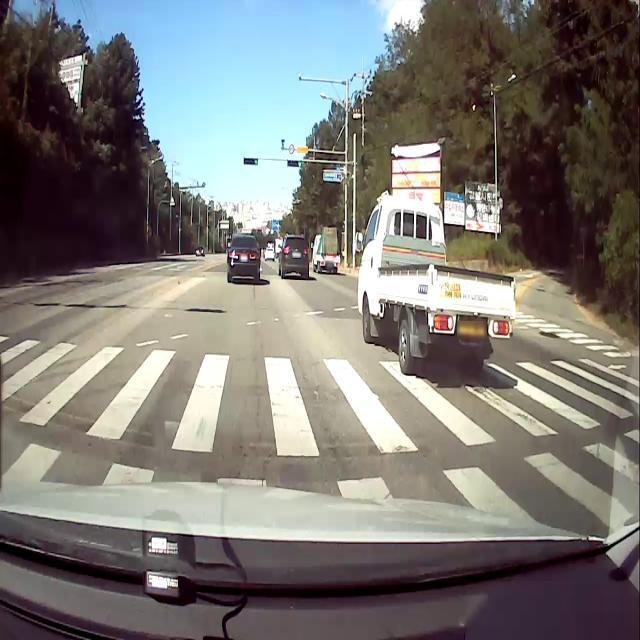crosswalk: (0, 334, 640, 538), (499, 310, 635, 360)
